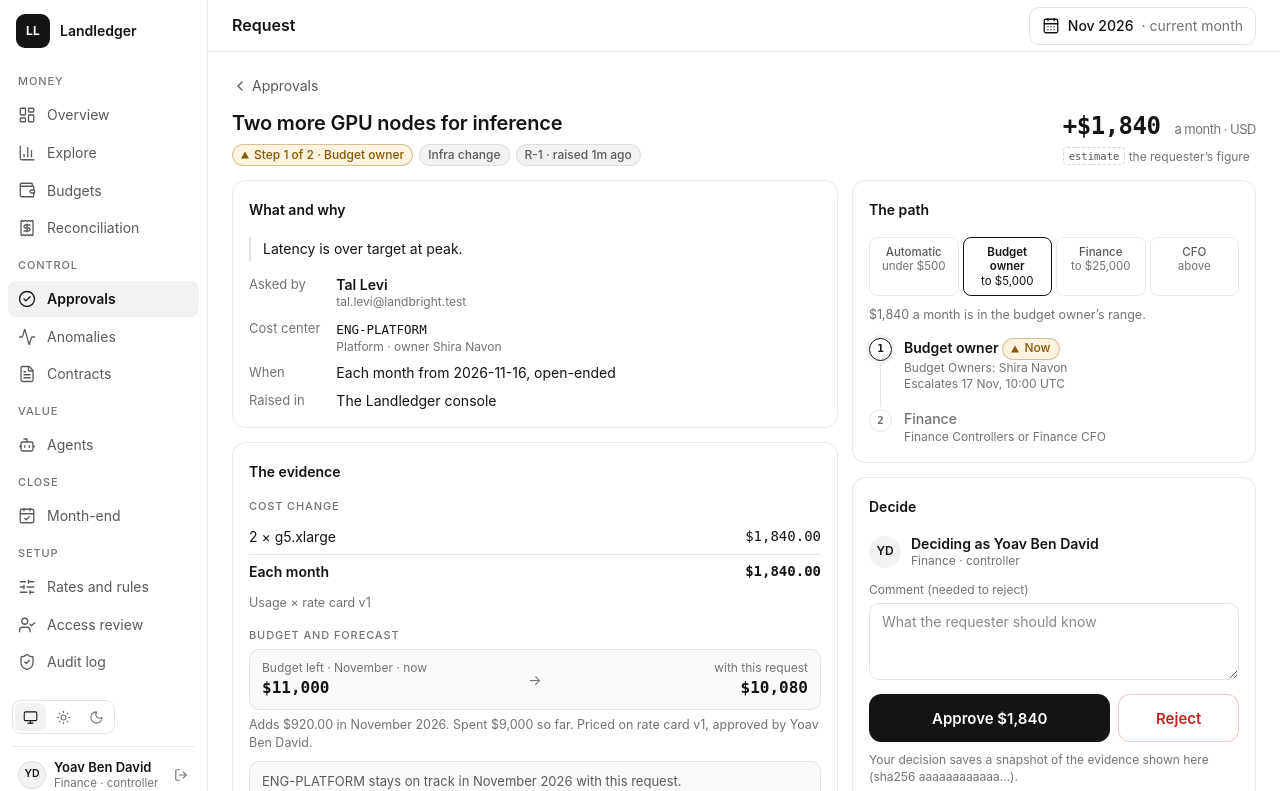
Test case: a request › shows the evidence and the path, and approves with the evidence hash and step
Later steps or results of the test are not shown.
Check: the heading "Two more GPU nodes for inference" is shown, box [232,111,562,135]
Check: the text "2 × g5.xlarge" is shown, box [249,527,336,546]
# Reject needs a comment.
Click the button with test id "reject" at (1179, 718), box [1118,694,1239,742]
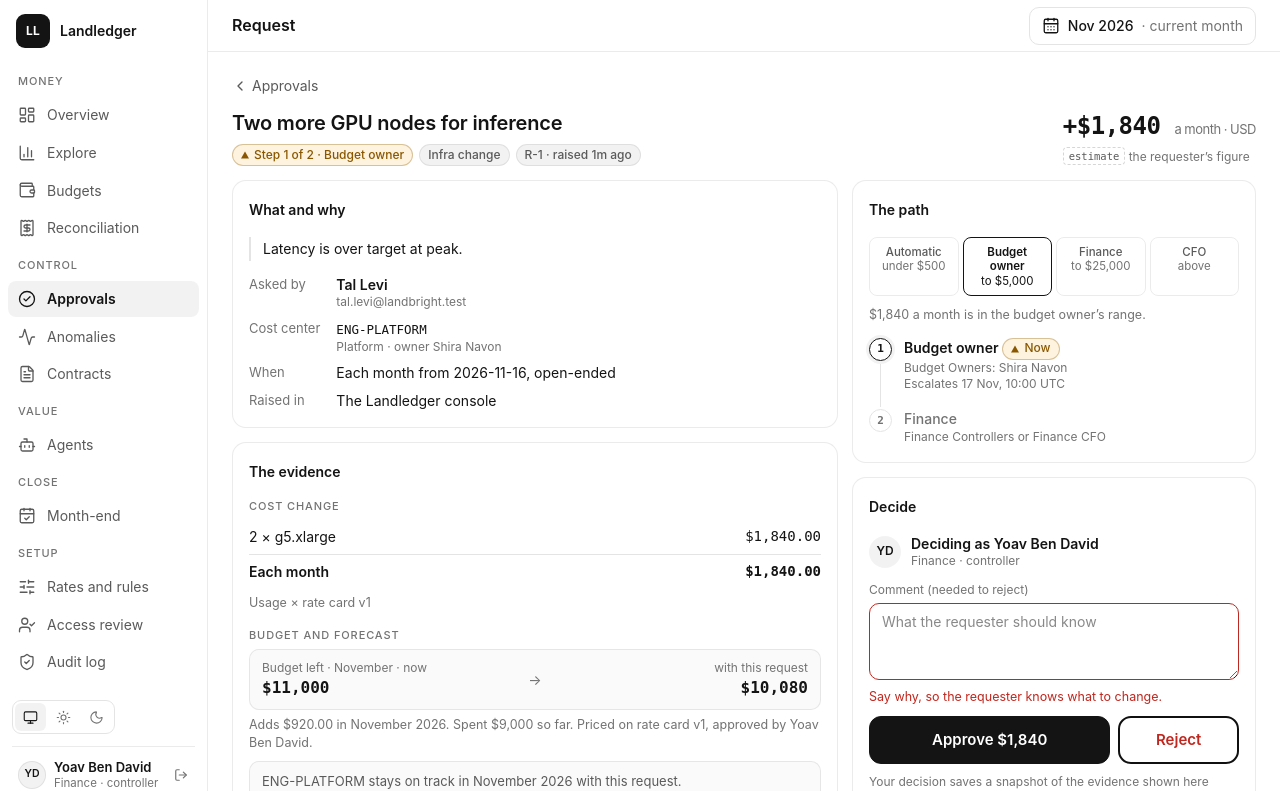
Check: the message shows "Say why", box [869,689,1162,704]
